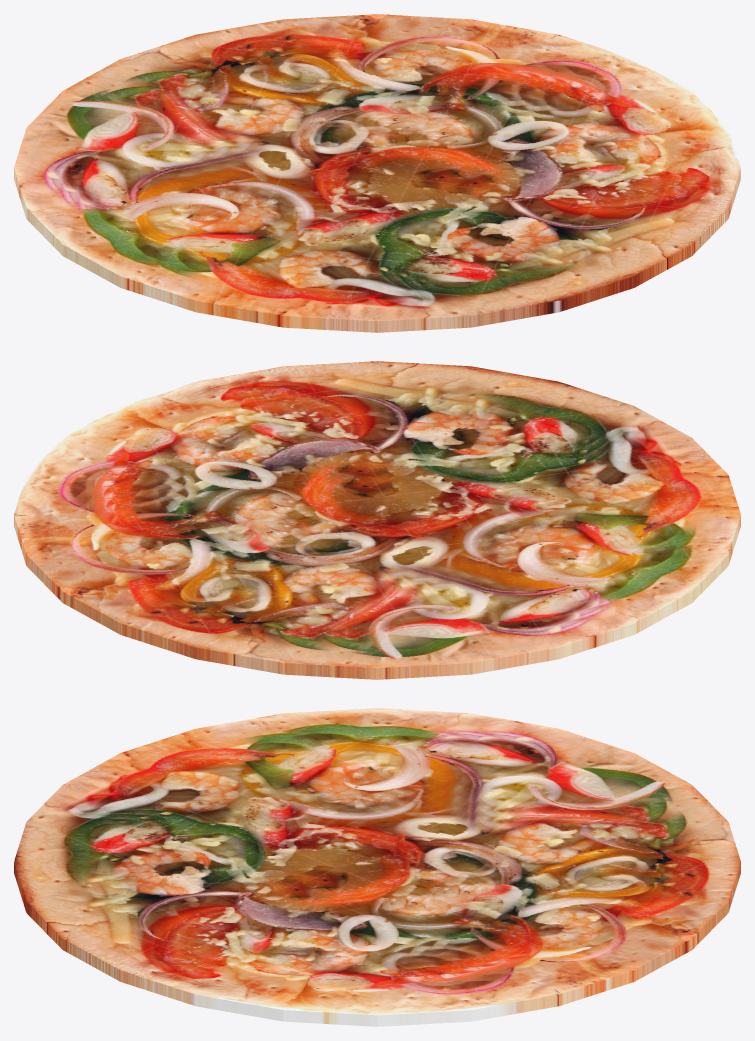
Rendered from veggies_1.glb.
3 renders of one model, top to bottom at view 1: azimuth 30°, elevation 25°; view 2: azimuth 150°, elevation 25°; view 3: azimuth 270°, elevation 25°, orthographic.
Visible parts, largest first — view 1: Material2.011; view 2: Material2.011; view 3: Material2.011.
Boxes of the visible parts, x1,y1,x2,y2 form: Material2.011: [14, 14, 740, 332]; Material2.011: [14, 361, 740, 679]; Material2.011: [14, 708, 740, 1026].
Size of the model in its own units: 1.21 by 0.0212 by 1.21.
1 material, 1 textured.
